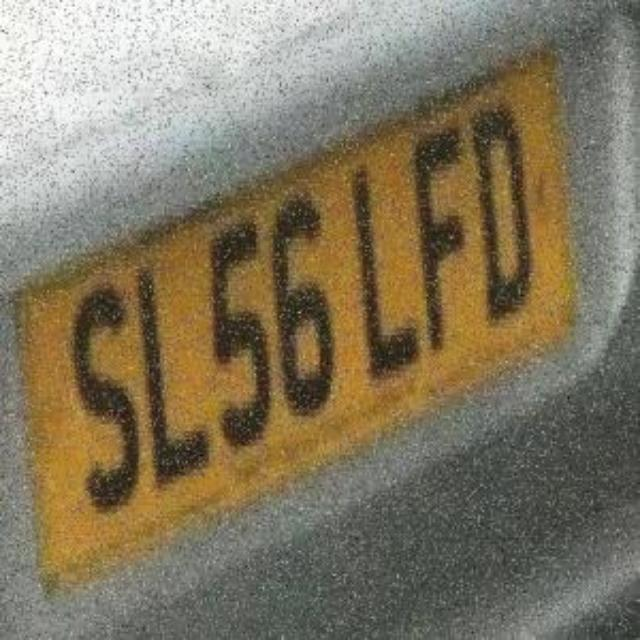License Plate: (11, 42, 576, 610)
